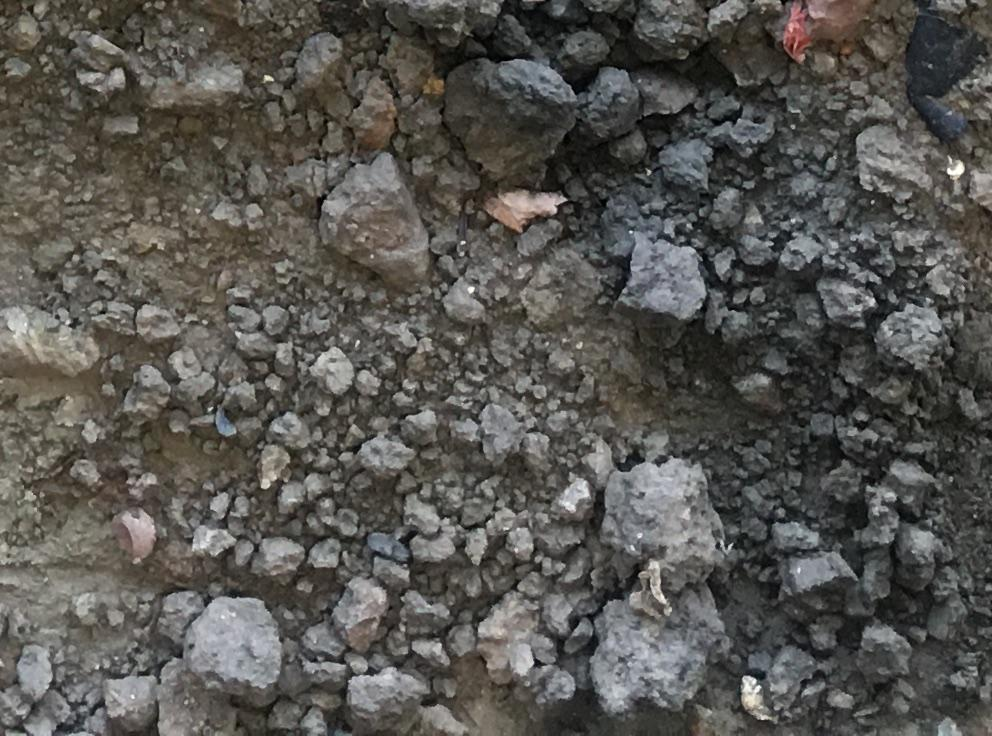block: (591, 585, 727, 710), (438, 54, 568, 184), (604, 456, 732, 587), (314, 153, 429, 294), (618, 227, 705, 362), (180, 593, 283, 705)
